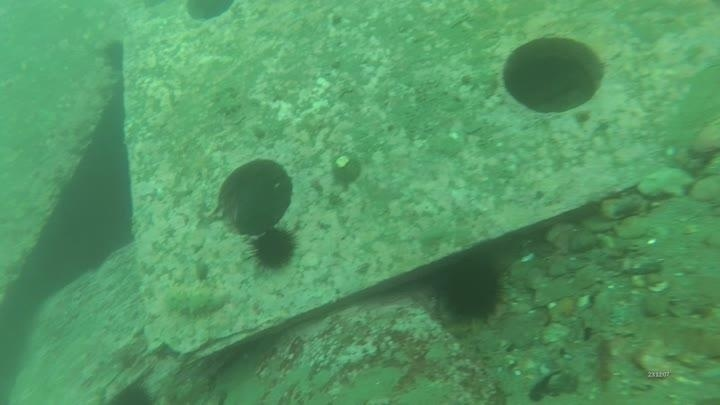echinus: (433, 254, 512, 327), (247, 223, 300, 273), (100, 38, 128, 73)
holothurian: (156, 280, 233, 320)
